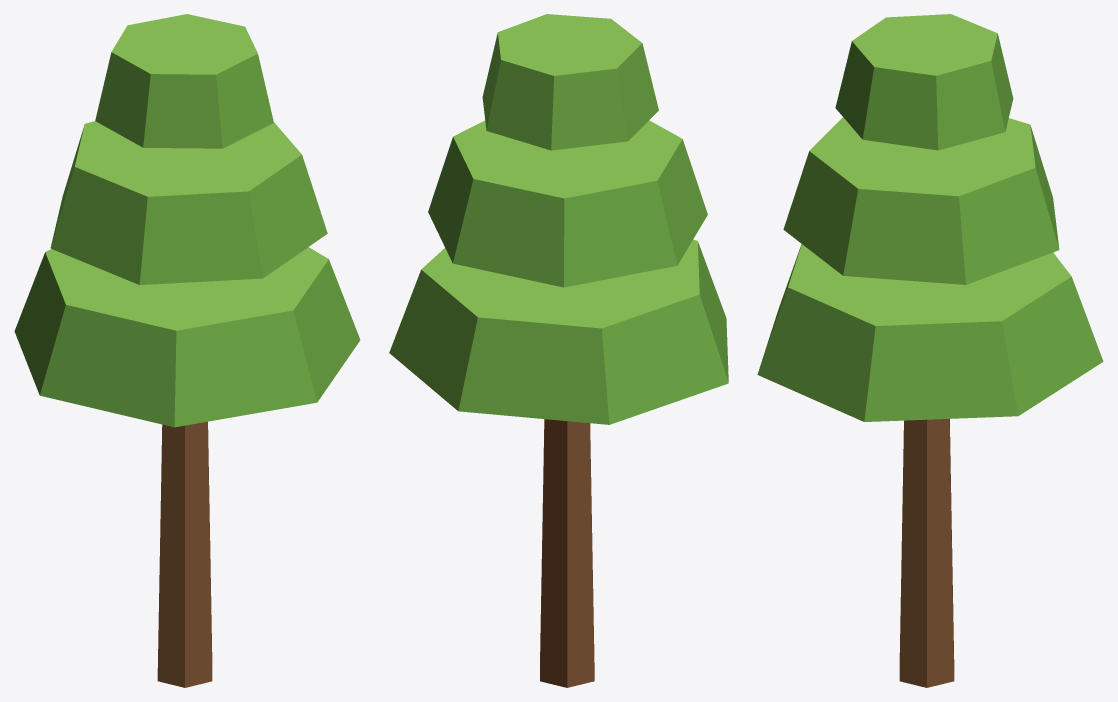
The model's file is tree_plateau.glb.
3 views of the same model, side by side, from view 1: azimuth 30°, elevation 25°; view 2: azimuth 150°, elevation 25°; view 3: azimuth 270°, elevation 25° (orthographic).
Visible parts, largest first — view 1: tree_plateau; view 2: tree_plateau; view 3: tree_plateau.
Part boxes in pixels (left/top/right/bottom): tree_plateau: left=14, top=14, right=360, bottom=687; tree_plateau: left=389, top=14, right=728, bottom=687; tree_plateau: left=757, top=14, right=1103, bottom=687.
Bounding box in the file's own units: 0.599 × 1.21 × 0.602.
1 material, 1 textured.
